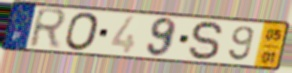4: (108, 14, 138, 56)
9: (145, 16, 179, 59), (227, 25, 255, 62)
O: (63, 11, 101, 52)
R: (27, 6, 70, 52)
S: (187, 20, 225, 62)
